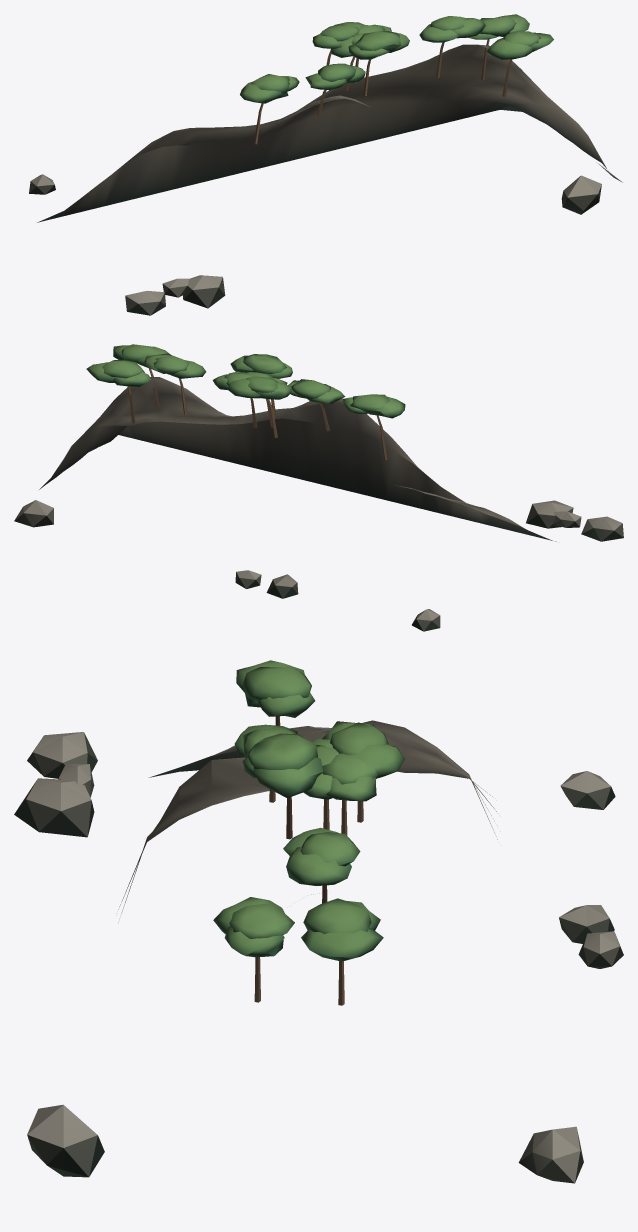
The model's file is coast_headland.glb.
The picture shows the model from 3 angles, top to bottom: view 1: azimuth 30°, elevation 25°; view 2: azimuth 150°, elevation 25°; view 3: azimuth 270°, elevation 25°; orthographic projection. The views are drawn at different scales.
Parts seen in each view (by area): view 1: coast_headland_mesh; view 2: coast_headland_mesh; view 3: coast_headland_mesh.
Boxes of the visible parts, x1=… form: coast_headland_mesh: x1=29, y1=14, x2=622, y2=315; coast_headland_mesh: x1=14, y1=344, x2=623, y2=631; coast_headland_mesh: x1=14, y1=660, x2=623, y2=1183.
Size of the model in its own units: 61.53 by 19.26 by 34.72.
